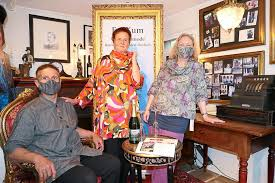mask_weared_incorrect: (116, 38, 129, 57)
with_mask: (41, 72, 60, 89), (178, 41, 193, 54)
